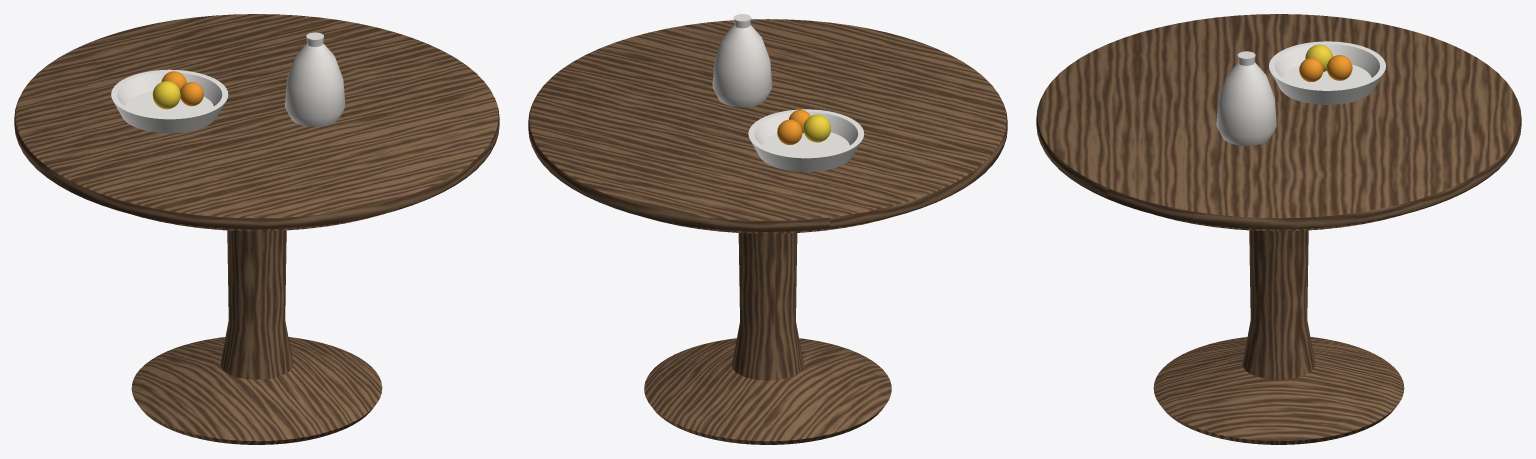
The model's file is mesa-redonda-nogal-v2.gltf.
3 renders of one model, left to right at view 1: azimuth 30°, elevation 25°; view 2: azimuth 150°, elevation 25°; view 3: azimuth 270°, elevation 25°, orthographic.
Visible parts, largest first — view 1: mesa-redonda-nogal__w_nogal_x, mesa-redonda-nogal__w_nogal, mesa-redonda-nogal__k_ceramica, mesa-redonda-nogal__c_mate, mesa-redonda-nogal__k_naranja, mesa-redonda-nogal__k_limon; view 2: mesa-redonda-nogal__w_nogal_x, mesa-redonda-nogal__w_nogal, mesa-redonda-nogal__k_ceramica, mesa-redonda-nogal__c_mate, mesa-redonda-nogal__k_naranja, mesa-redonda-nogal__k_limon; view 3: mesa-redonda-nogal__w_nogal_x, mesa-redonda-nogal__w_nogal, mesa-redonda-nogal__k_ceramica, mesa-redonda-nogal__c_mate, mesa-redonda-nogal__k_naranja.
Boxes of the visible parts, left/top/right/bottom form: mesa-redonda-nogal__w_nogal_x: left=14, top=14, right=499, bottom=229; mesa-redonda-nogal__w_nogal: left=131, top=214, right=383, bottom=444; mesa-redonda-nogal__k_ceramica: left=111, top=69, right=228, bottom=133; mesa-redonda-nogal__c_mate: left=285, top=32, right=345, bottom=126; mesa-redonda-nogal__k_naranja: left=161, top=71, right=203, bottom=106; mesa-redonda-nogal__k_limon: left=152, top=81, right=180, bottom=109; mesa-redonda-nogal__w_nogal_x: left=528, top=19, right=1007, bottom=231; mesa-redonda-nogal__w_nogal: left=644, top=218, right=891, bottom=444; mesa-redonda-nogal__k_ceramica: left=748, top=109, right=864, bottom=172; mesa-redonda-nogal__c_mate: left=712, top=14, right=772, bottom=107; mesa-redonda-nogal__k_naranja: left=777, top=109, right=810, bottom=144; mesa-redonda-nogal__k_limon: left=803, top=114, right=830, bottom=142; mesa-redonda-nogal__w_nogal_x: left=1036, top=14, right=1521, bottom=229; mesa-redonda-nogal__w_nogal: left=1153, top=215, right=1404, bottom=444; mesa-redonda-nogal__k_ceramica: left=1269, top=41, right=1385, bottom=104; mesa-redonda-nogal__c_mate: left=1216, top=51, right=1276, bottom=145; mesa-redonda-nogal__k_naranja: left=1299, top=55, right=1352, bottom=81.
Bounding box in the file's own units: 1.2 × 0.98 × 1.2.
Materials: 6 (2 with a texture image).
